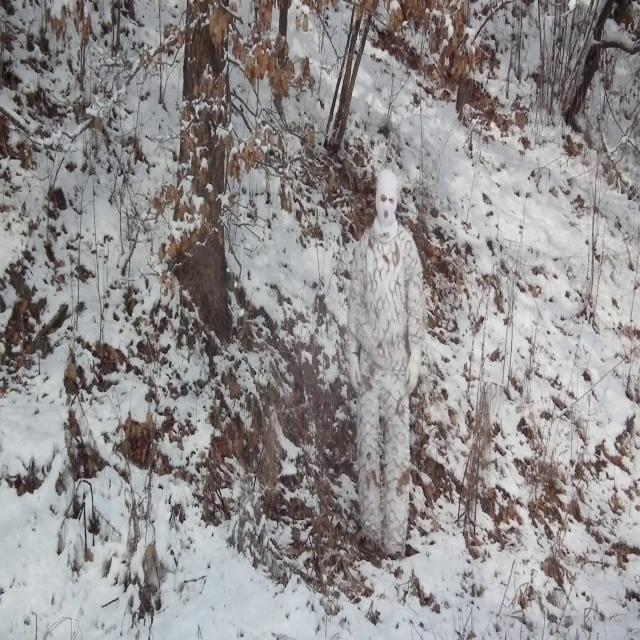Camouflage: (347, 170, 423, 560)
